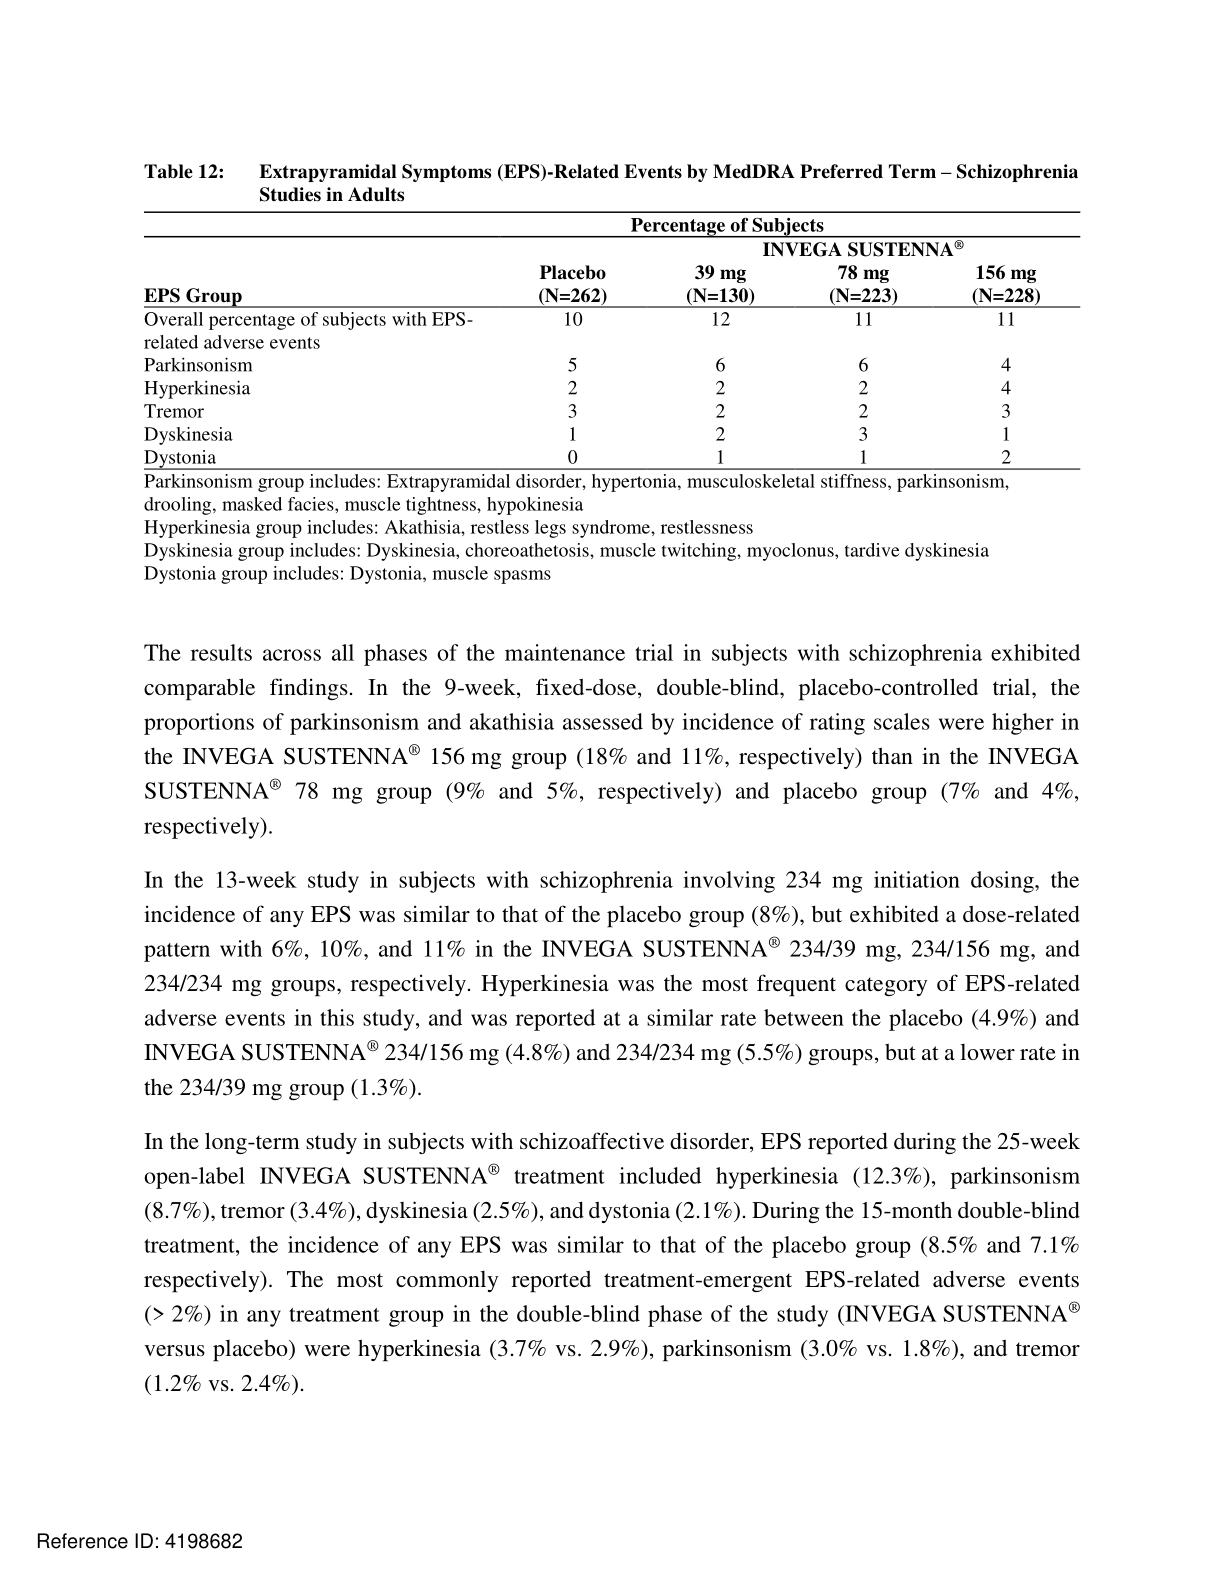partial_lined_merged_cells: (141, 208, 1084, 471)
